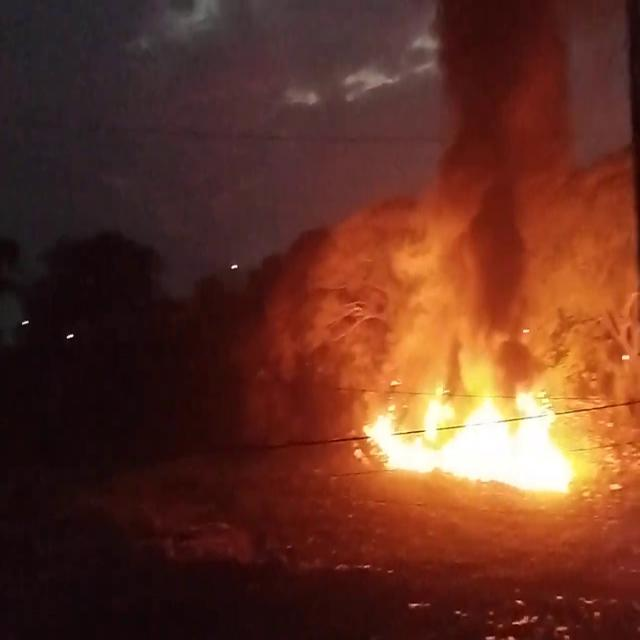Fire: (348, 358, 612, 503)
Smoke: (354, 1, 638, 354)
